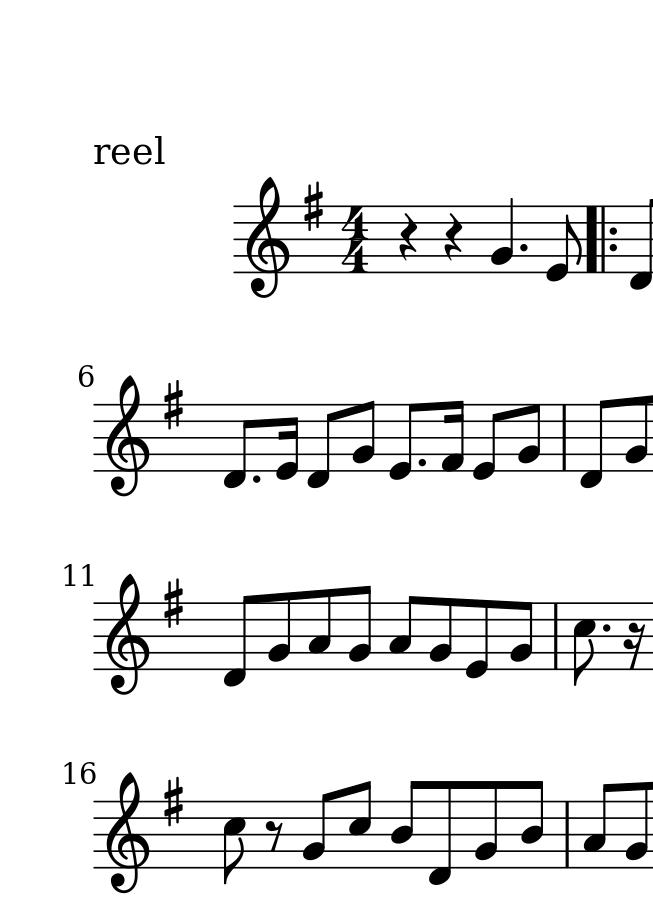1: (78, 561, 96, 591), (61, 561, 77, 591), (62, 757, 78, 786)
16_0: (273, 402, 300, 482)
16_1: (441, 399, 466, 475)
4: (338, 238, 374, 272), (338, 203, 372, 238)
4_2: (489, 197, 515, 274)
6: (77, 361, 96, 390), (80, 755, 96, 789)
8_-1: (576, 398, 614, 491), (424, 779, 455, 889), (221, 594, 257, 686), (305, 402, 341, 492), (221, 403, 257, 489)
8_0: (544, 203, 583, 284), (386, 400, 423, 482), (471, 402, 506, 484), (464, 598, 493, 683)
8_2: (301, 789, 335, 870), (473, 779, 501, 871), (345, 584, 373, 673), (622, 781, 649, 871), (265, 591, 293, 673), (624, 393, 652, 472), (427, 597, 454, 672), (516, 402, 543, 475), (351, 399, 377, 473), (510, 599, 535, 673)
8_3: (582, 783, 615, 871), (388, 593, 419, 673), (307, 587, 334, 672)
8_4: (389, 778, 424, 869), (518, 778, 545, 869)
8_5: (346, 779, 374, 870), (219, 798, 245, 886), (570, 601, 596, 687)
Gclef: (101, 773, 151, 894), (103, 374, 152, 497), (103, 572, 151, 695), (245, 177, 290, 300)
LeftRepeatSign: (583, 204, 621, 272)
Rests16: (623, 618, 646, 675)
Rests4: (396, 211, 420, 261), (443, 213, 463, 263)
Rests8: (264, 818, 284, 851)
Sharp: (160, 574, 186, 632), (161, 379, 187, 436), (302, 180, 325, 234), (160, 776, 184, 826)
Single_barline: (548, 604, 565, 670), (559, 799, 574, 865), (558, 404, 571, 472)
TimeSig: (339, 206, 370, 276)
dot: (249, 472, 262, 485), (415, 455, 427, 469), (601, 620, 611, 634), (518, 243, 528, 254)
